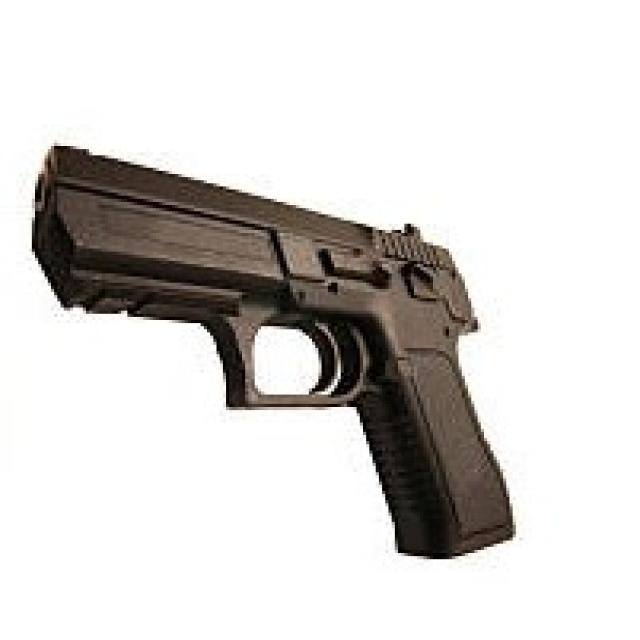pistol: (23, 142, 521, 564)
